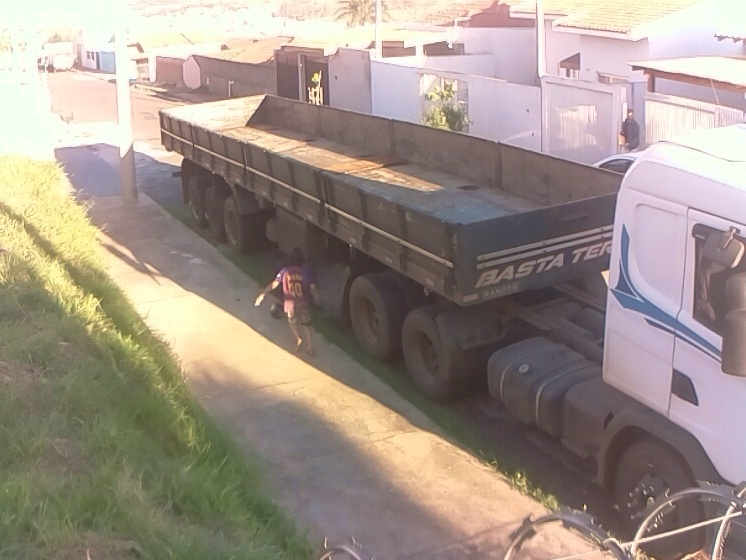person: (252, 244, 327, 360), (616, 107, 644, 158)
